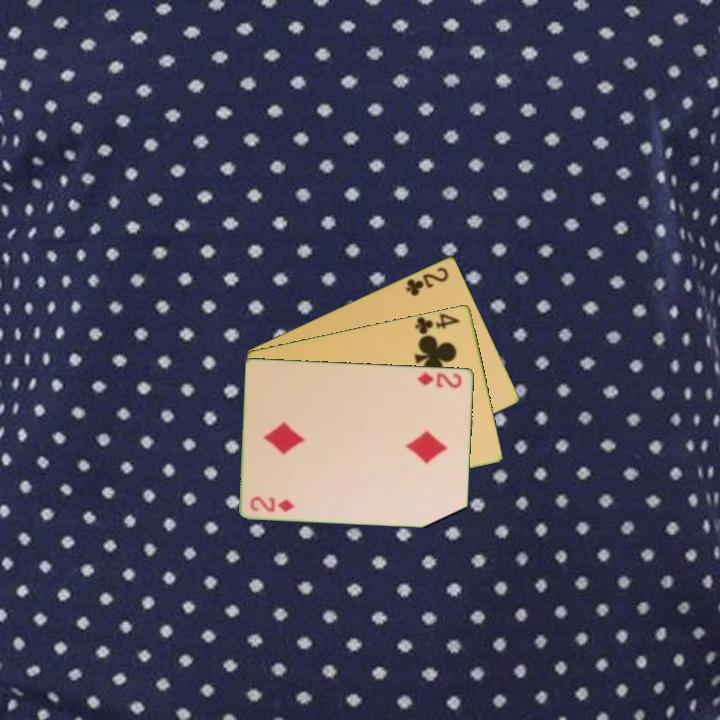2c: (402, 263, 452, 299)
2d: (414, 369, 465, 391), (247, 493, 297, 515)
4c: (411, 310, 463, 337)
